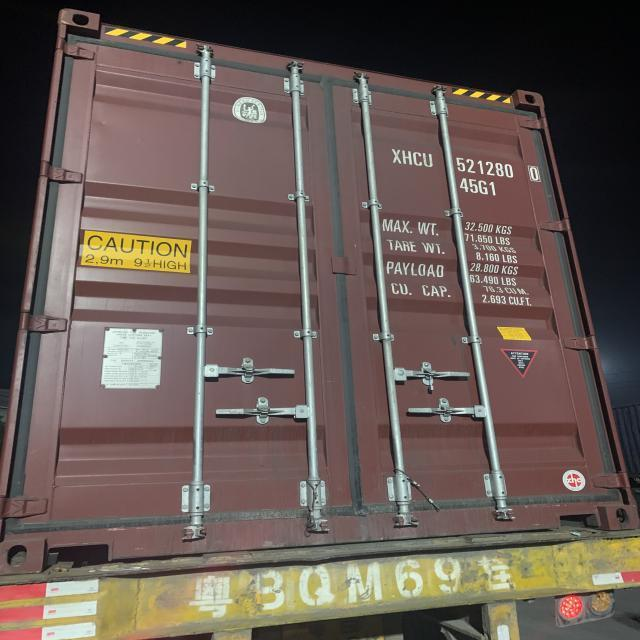ISO: (460, 178, 498, 197)
container_number: (392, 152, 542, 179)
